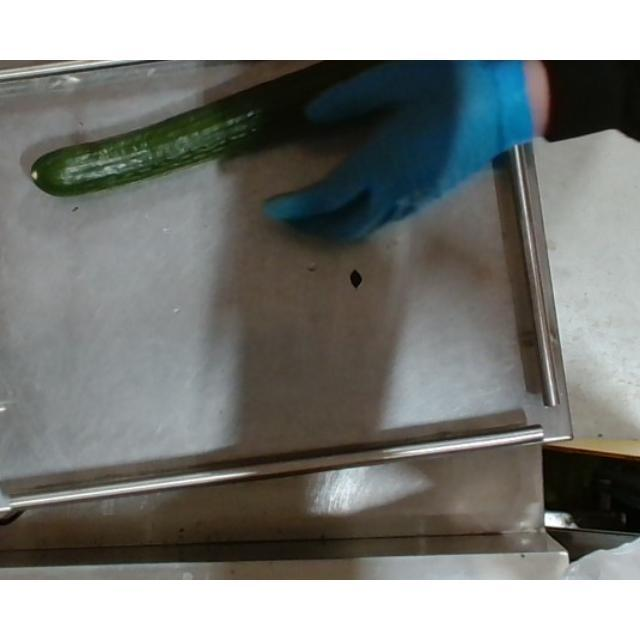cucumber: (30, 64, 420, 198)
